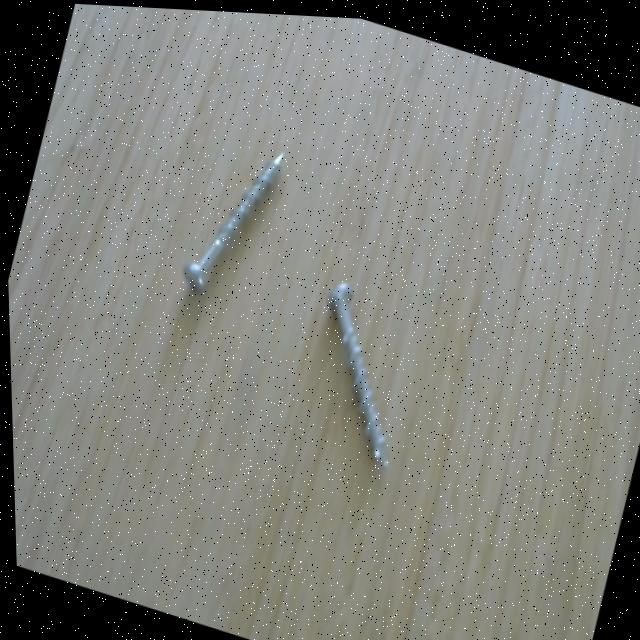Medium screw: (279, 262, 436, 479), (166, 115, 298, 321)
